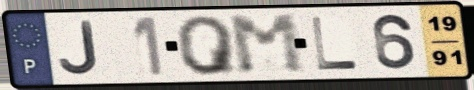1: (129, 14, 166, 80)
6: (369, 12, 419, 72)
J: (57, 19, 102, 77)
L: (308, 15, 362, 72)
M: (225, 12, 310, 77)
Q: (174, 14, 241, 78)
